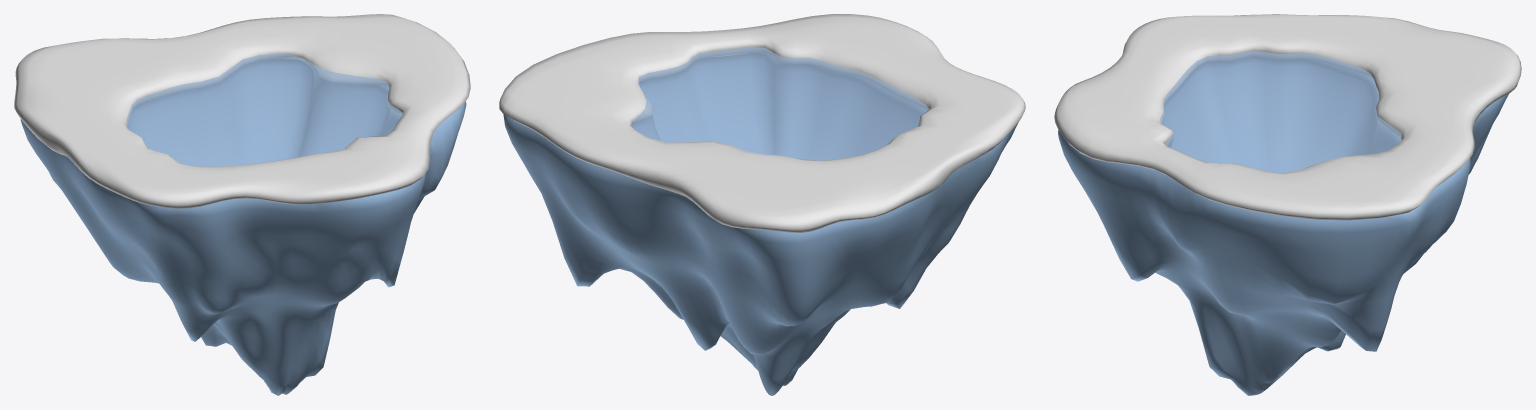
Rendered from Iceberg.fbx.
3 views of the same model, side by side, from view 1: azimuth 30°, elevation 25°; view 2: azimuth 150°, elevation 25°; view 3: azimuth 270°, elevation 25° (orthographic). The views are drawn at different scales.
Visible parts, largest first — view 1: NurbsPath; view 2: NurbsPath; view 3: NurbsPath.
Boxes of the visible parts, left/top/right/bottom form: NurbsPath: left=14, top=14, right=470, bottom=395; NurbsPath: left=499, top=14, right=1025, bottom=395; NurbsPath: left=1054, top=14, right=1521, bottom=395.
Size of the model in its own units: 553 by 366 by 545.
